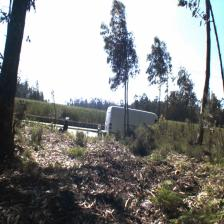trunktrack_idkeyframe: (0, 17, 25, 138), (197, 25, 215, 152)
